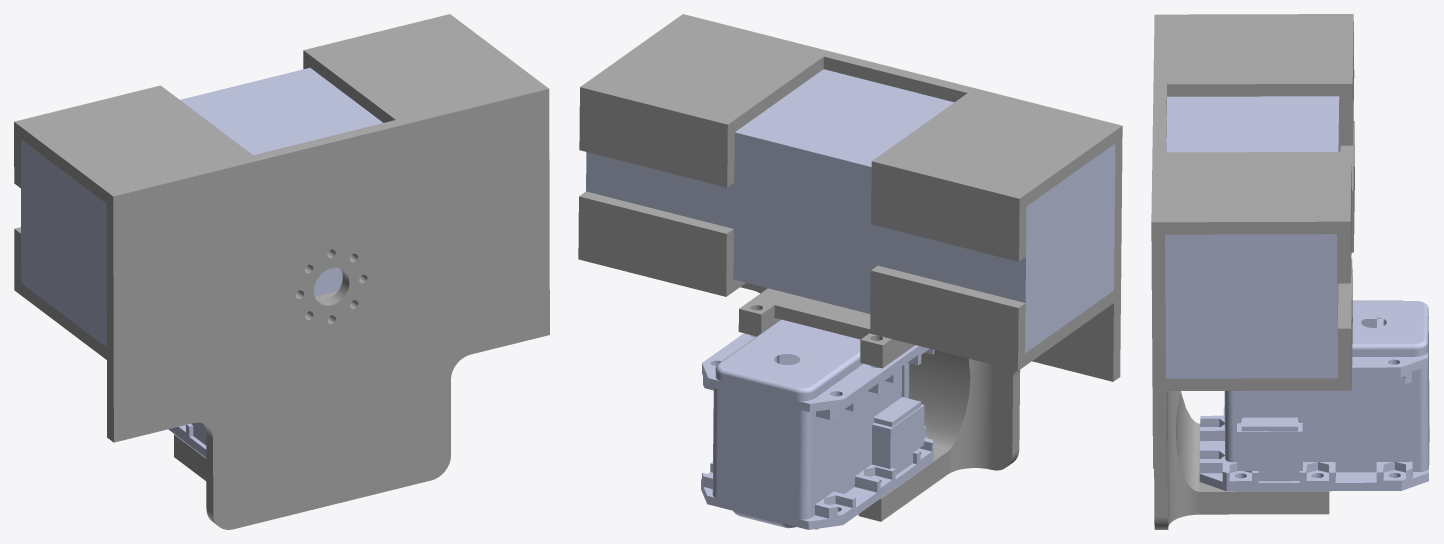
3 renders of one model, left to right at view 1: azimuth 30°, elevation 25°; view 2: azimuth 150°, elevation 25°; view 3: azimuth 270°, elevation 25°, orthographic. The views are drawn at different scales.
Parts seen in each view (by area): view 1: Fillet4_DC_Shell, Boss_Extrude1_DC_Shell, NONE_DC_Shell; view 2: Fillet4_DC_Shell, Boss_Extrude1_DC_Shell, NONE_DC_Shell; view 3: Fillet4_DC_Shell, Boss_Extrude1_DC_Shell, NONE_DC_Shell.
Part boxes in pixels (x1,y1,x2,y2): Fillet4_DC_Shell: (14,14,549,529); Boss_Extrude1_DC_Shell: (21,68,382,347); NONE_DC_Shell: (168,422,206,457); Fillet4_DC_Shell: (578,14,1122,521); Boss_Extrude1_DC_Shell: (586,69,1115,353); NONE_DC_Shell: (701,319,934,529); Fillet4_DC_Shell: (1151,14,1354,529); Boss_Extrude1_DC_Shell: (1165,96,1340,378); NONE_DC_Shell: (1199,300,1429,491).
Bounding box in the file's own units: 111 × 88.77 × 61.44.
